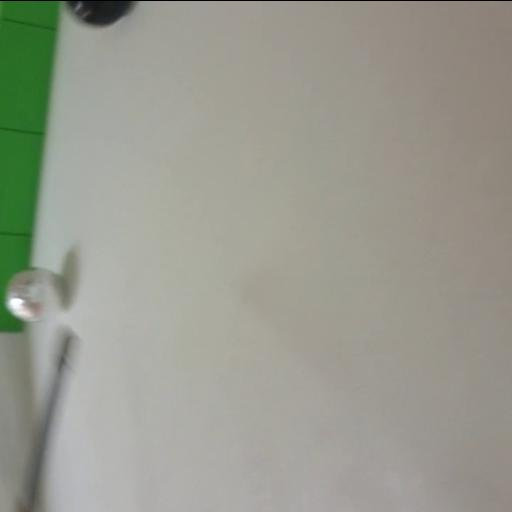alive: (4, 268, 64, 322)
dead: (64, 0, 136, 26)
